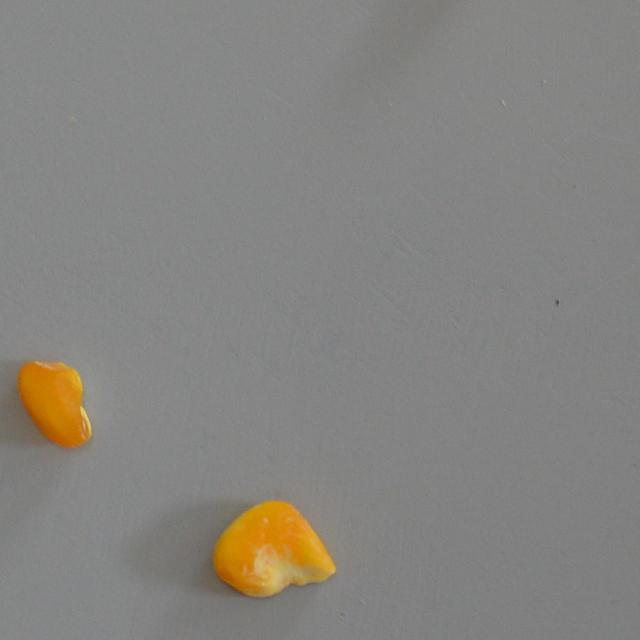no_canjicado: (211, 498, 336, 600), (19, 358, 94, 447)
